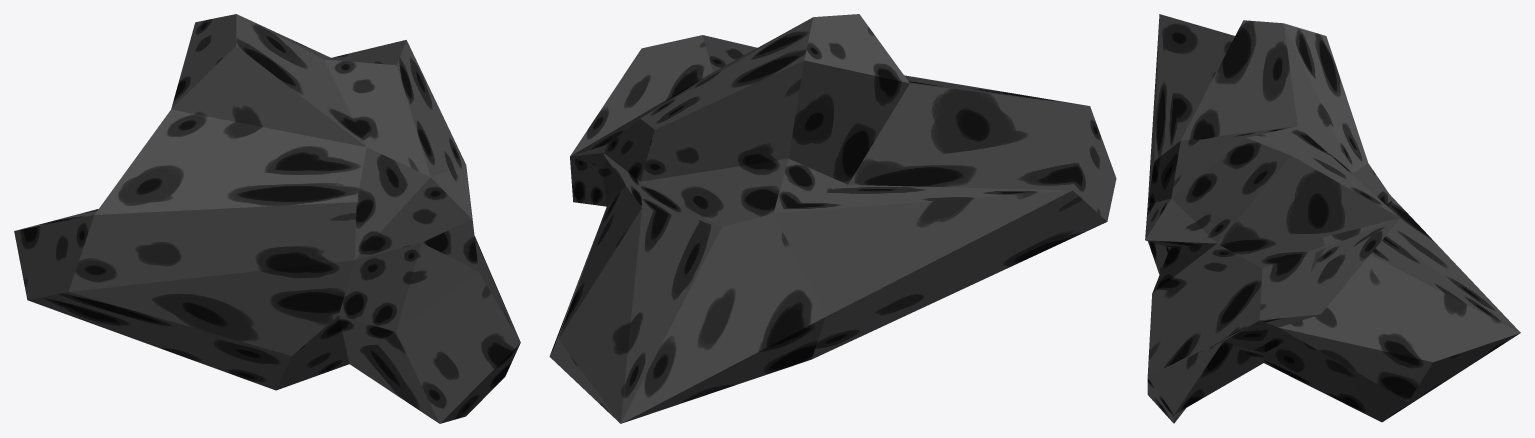
The model's file is asteroid 1.fbx.
The picture shows the model from 3 angles, left to right: view 1: azimuth 30°, elevation 25°; view 2: azimuth 150°, elevation 25°; view 3: azimuth 270°, elevation 25°; orthographic projection. The views are drawn at different scales.
Visible parts, largest first — view 1: Platonic; view 2: Platonic; view 3: Platonic.
Boxes of the visible parts, left/top/right/bottom form: Platonic: left=14, top=14, right=520, bottom=423; Platonic: left=549, top=14, right=1116, bottom=423; Platonic: left=1145, top=14, right=1520, bottom=423.
Size of the model in its own units: 383 by 296 by 303.
1 material, 1 textured.
